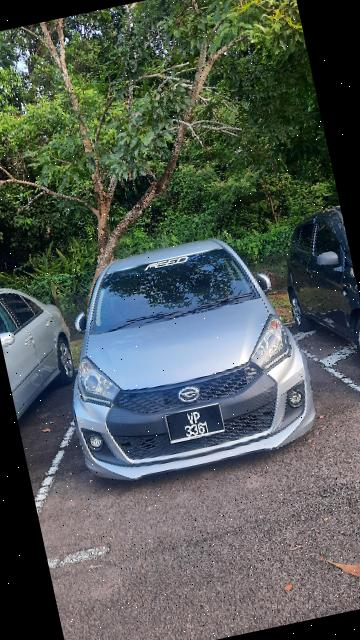License_Plate: (165, 402, 239, 448)
car: (39, 222, 327, 500)
